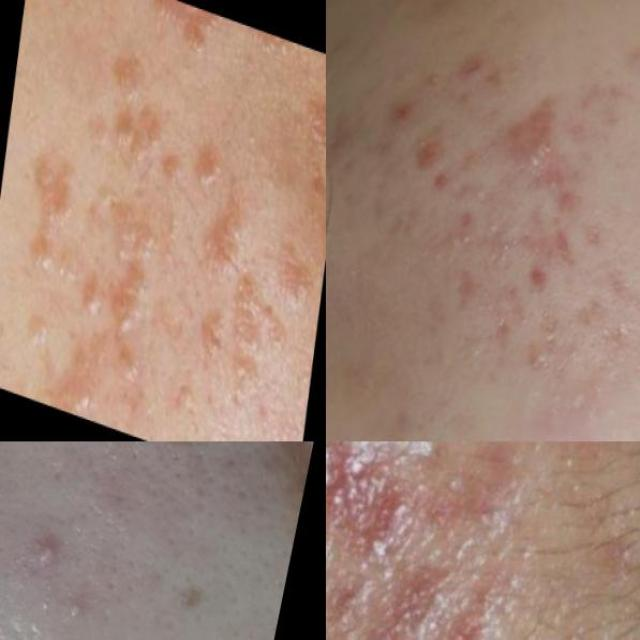acne_scars: (511, 212, 582, 270), (569, 72, 640, 112), (529, 292, 574, 340), (574, 280, 611, 332), (458, 36, 490, 83), (555, 185, 589, 214)
comedone: (394, 441, 473, 472), (438, 221, 480, 259), (472, 172, 494, 204), (481, 213, 502, 242)
flat_wart: (172, 259, 305, 439), (98, 254, 161, 394), (187, 190, 256, 304), (17, 137, 92, 241), (93, 36, 159, 132), (140, 0, 218, 79), (103, 104, 160, 186), (12, 292, 64, 373), (185, 128, 232, 205), (22, 228, 61, 283), (76, 274, 108, 324)
papule: (490, 94, 573, 185), (406, 122, 454, 178), (518, 250, 560, 301), (56, 584, 98, 630)
pustule: (28, 528, 68, 575)
